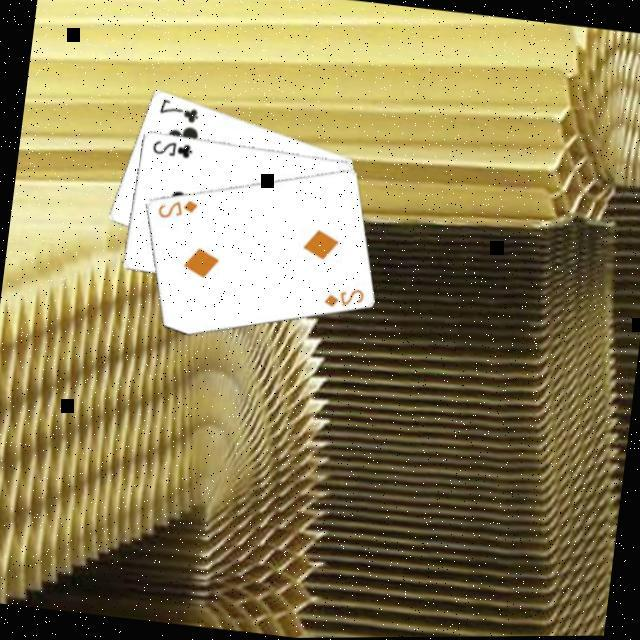2C: (150, 138, 197, 162)
2D: (154, 194, 202, 226), (321, 283, 369, 314)
7C: (156, 96, 204, 128)
